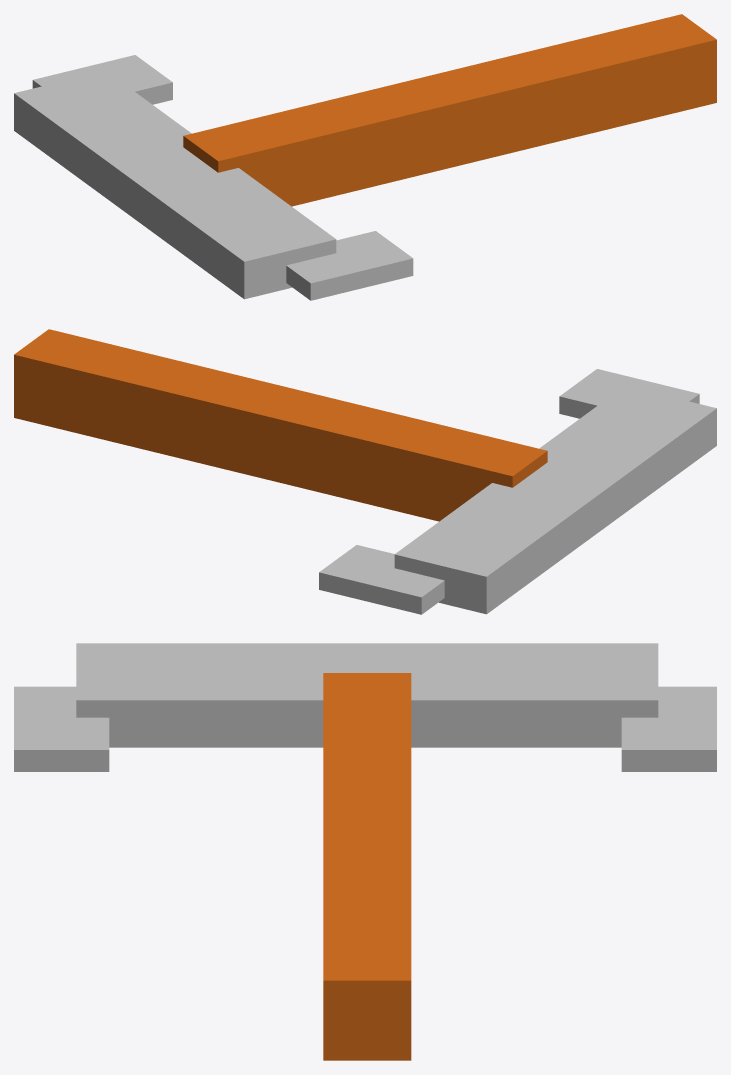
The model's file is gaozi.fbx.
The picture shows the model from 3 angles, top to bottom: view 1: azimuth 30°, elevation 25°; view 2: azimuth 150°, elevation 25°; view 3: azimuth 270°, elevation 25°; orthographic projection. The views are drawn at different scales.
Parts seen in each view (by area): view 1: Cube; view 2: Cube; view 3: Cube.
Boxes of the visible parts, left/top/right/bottom form: Cube: left=14, top=14, right=716, bottom=300; Cube: left=14, top=329, right=716, bottom=614; Cube: left=14, top=643, right=716, bottom=1060.
Size of the model in its own units: 572 by 60.59 by 483.
